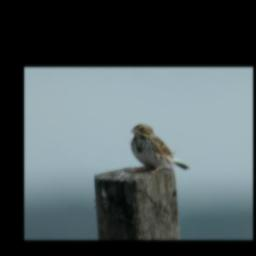Sparrow: (128, 123, 191, 174)
